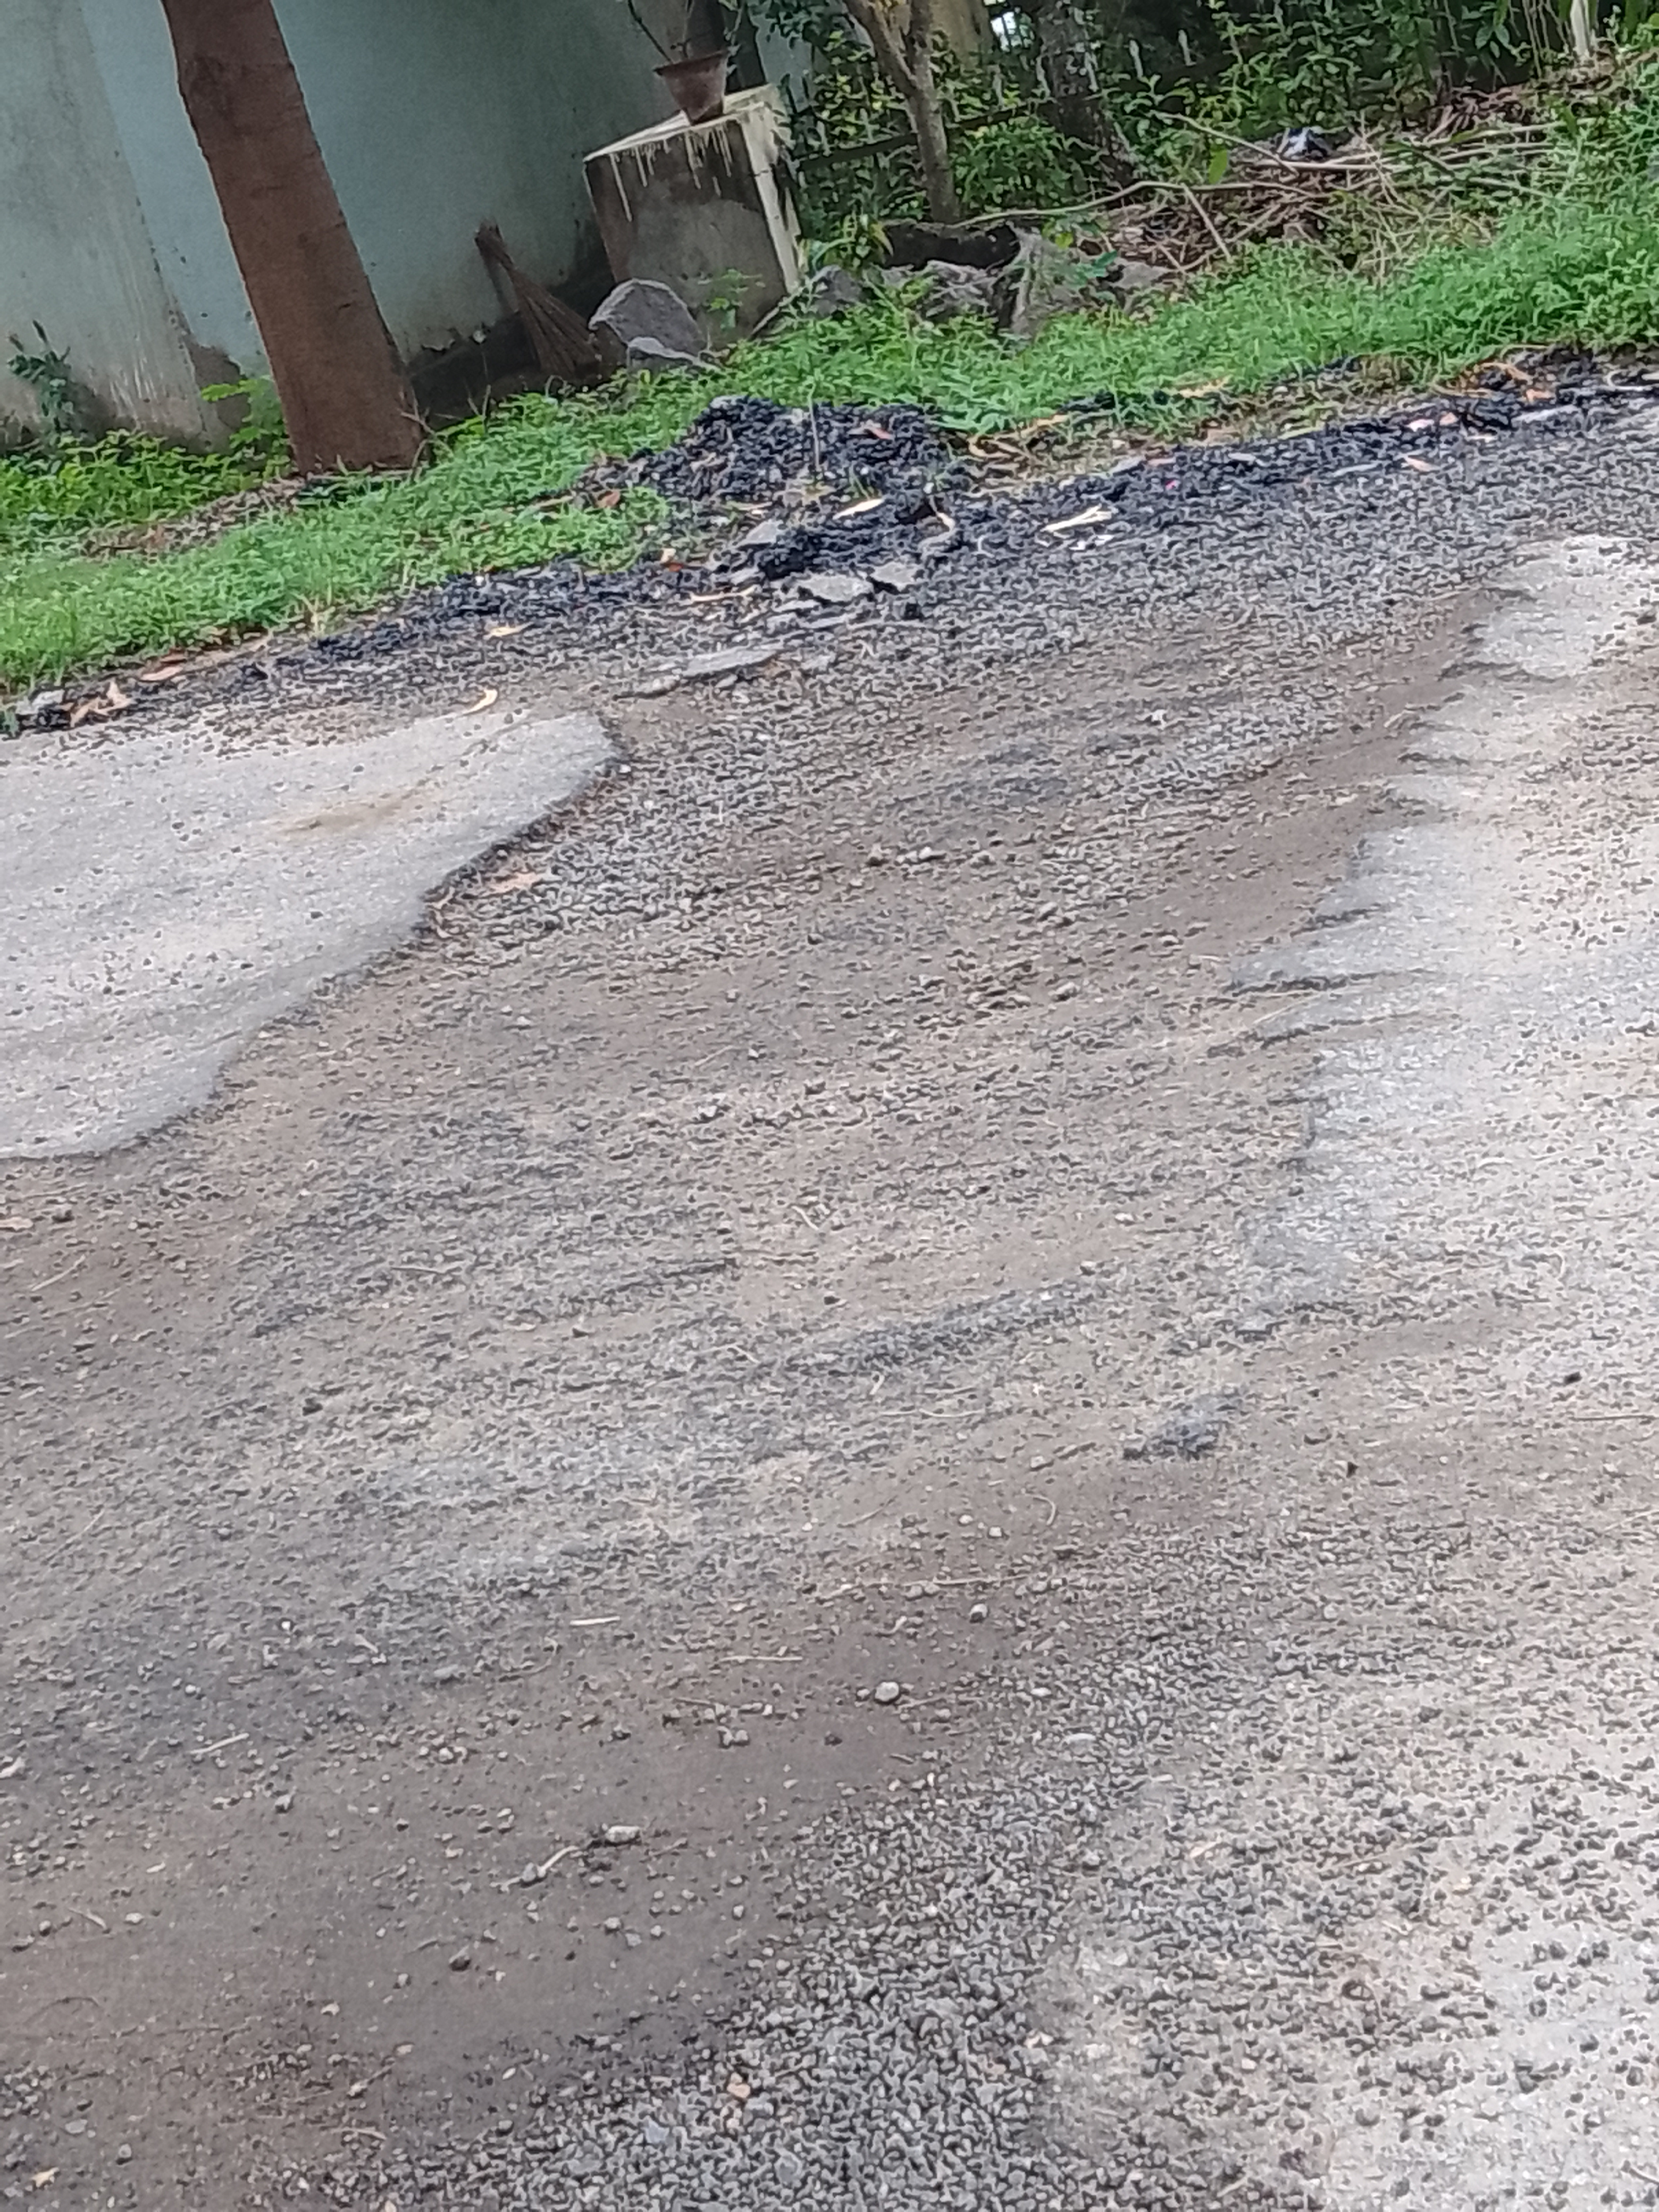potholes: (0, 327, 1650, 2212)
